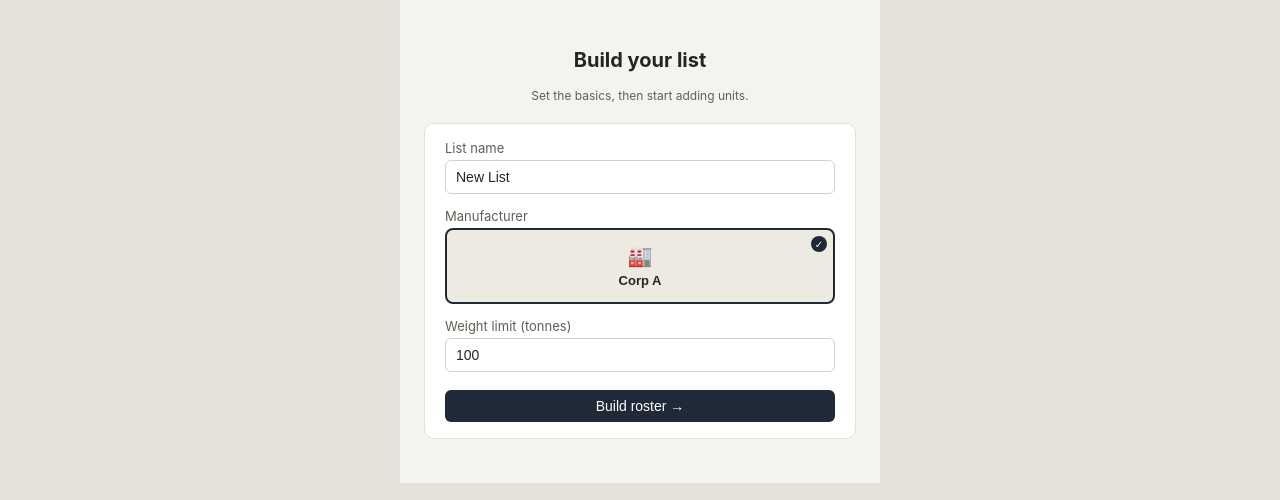
Test: ListBuilderPage › adds movement equipment weight without any size-based scaling
Click the button "Build roster →": click(640, 406) [445,390,835,422]
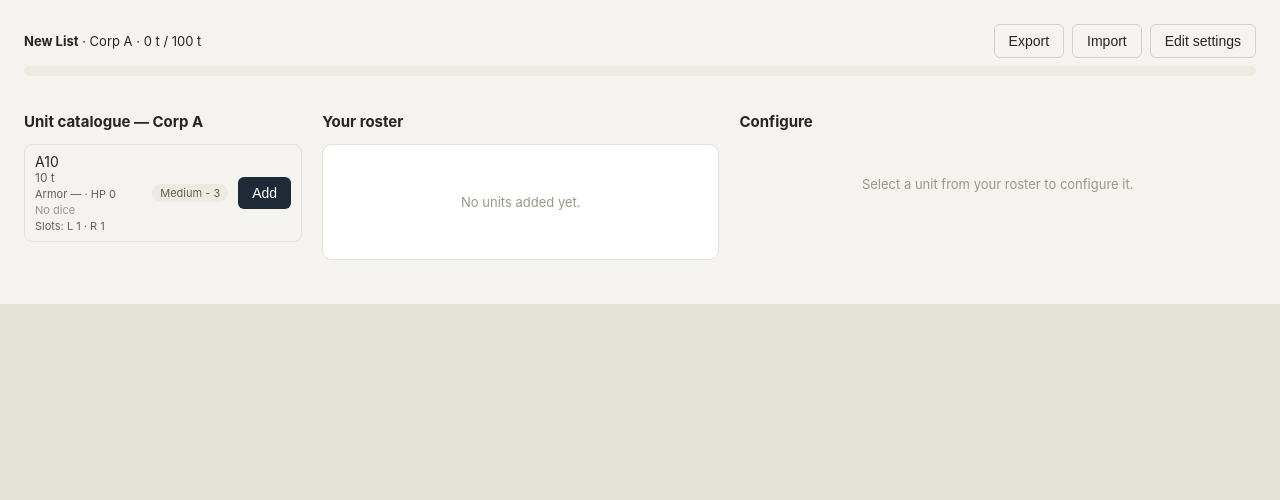
Click the button "Add": click(265, 193) [238,177,291,209]
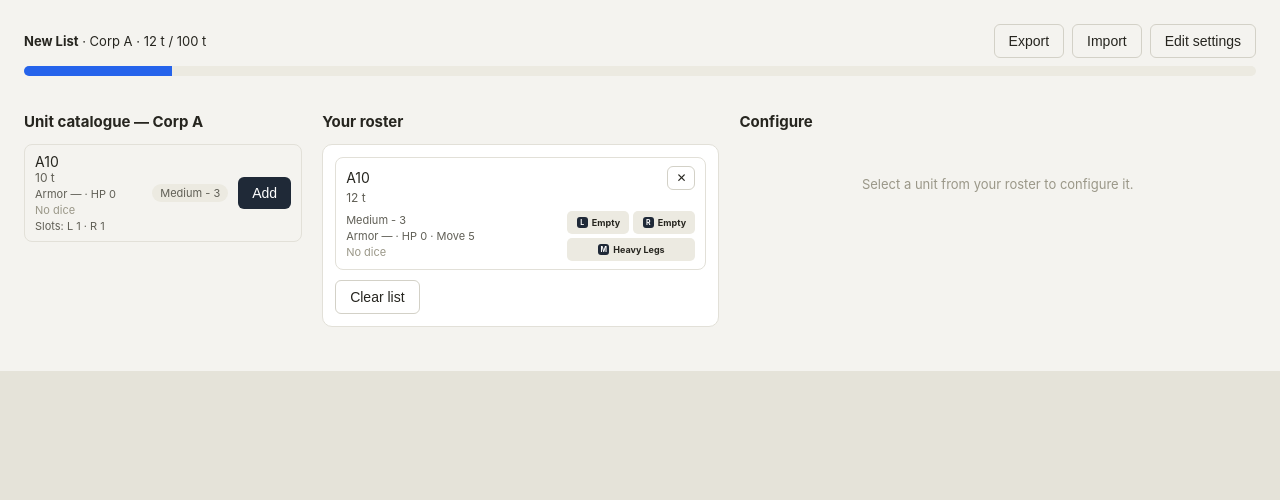
Expected: the text with class "weight-label-value" reads "12 t / 100 t", [144,33,206,49]
